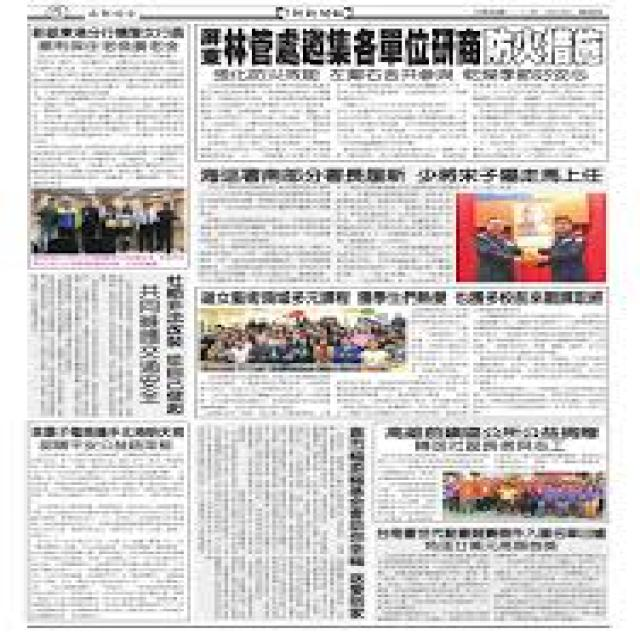paper: (4, 0, 626, 638)
